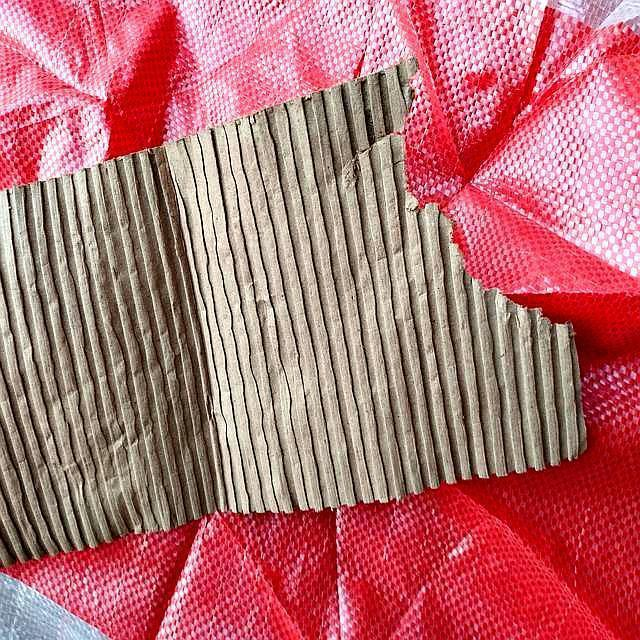Biodegradable: (1, 50, 614, 586)
